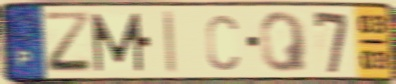7: (312, 8, 349, 75)
C: (204, 12, 241, 73)
I: (161, 9, 179, 76)
M: (89, 11, 146, 74)
Q: (257, 10, 310, 75)
Z: (42, 10, 96, 76)
